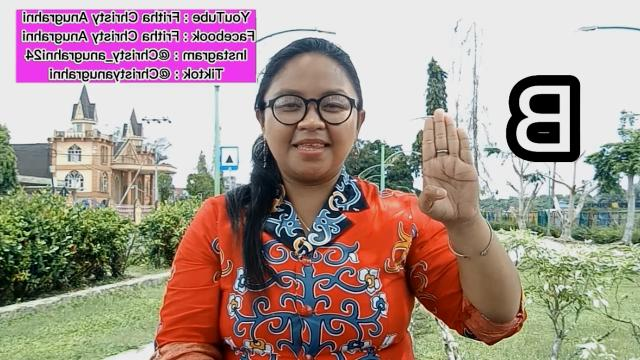B: (417, 108, 481, 222)
